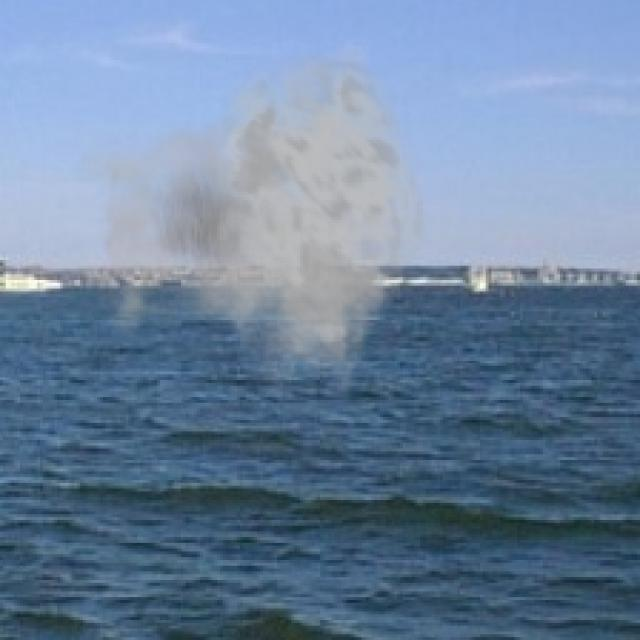smoke: (71, 40, 426, 403)
